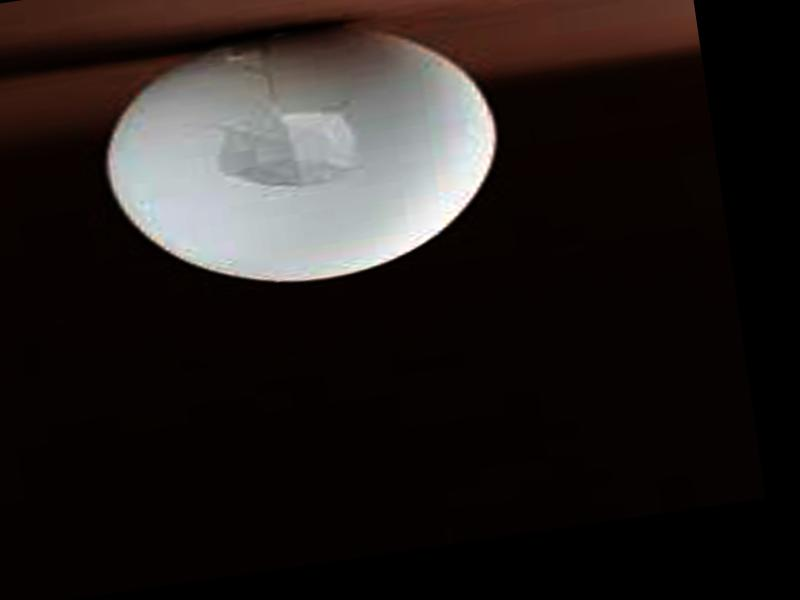Eggs: (96, 1, 513, 307)
